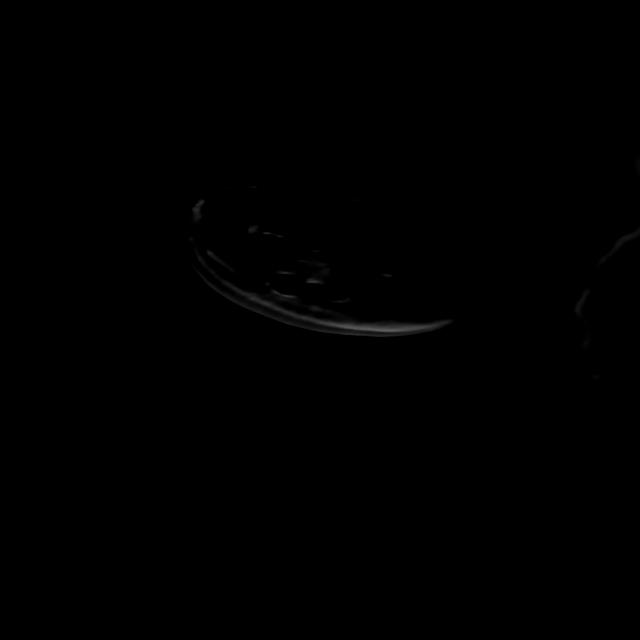Moon-jellyfish: (177, 177, 484, 338)
